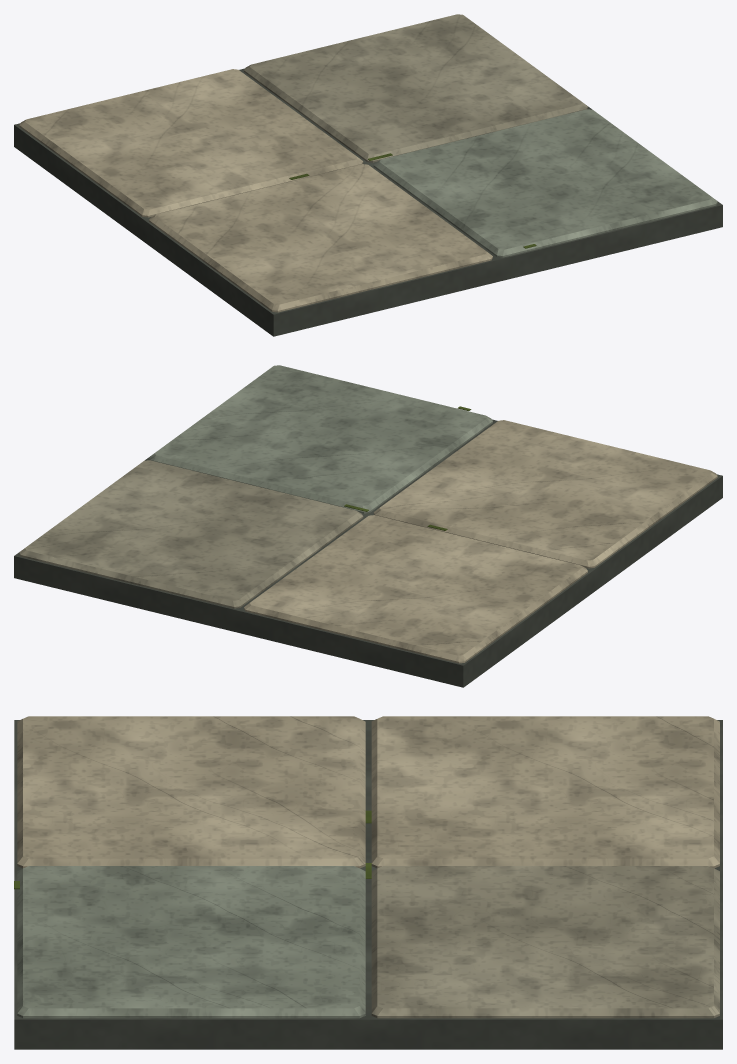
Rendered from b01_floor_a.fbx.
The picture shows the model from 3 angles, top to bottom: view 1: azimuth 30°, elevation 25°; view 2: azimuth 150°, elevation 25°; view 3: azimuth 270°, elevation 25°; orthographic projection. The views are drawn at different scales.
Visible parts, largest first — view 1: b01_floor_a; view 2: b01_floor_a; view 3: b01_floor_a.
Boxes of the visible parts, box(x1,y1,x2,y2) form: b01_floor_a: box(14, 14, 722, 336); b01_floor_a: box(14, 365, 722, 687); b01_floor_a: box(14, 716, 722, 1049).
Size of the model in its own units: 25600 by 25610 by 1500.
